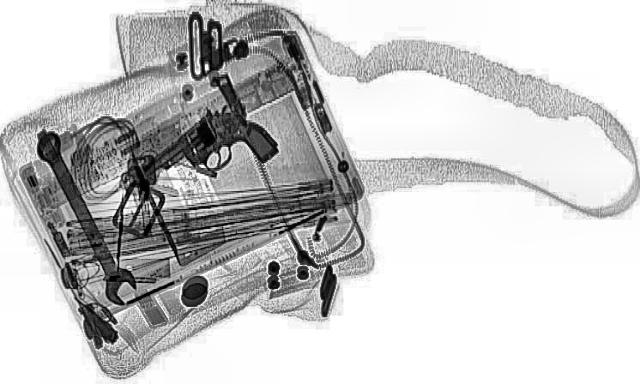Gun: (121, 106, 295, 206)
Wrench: (23, 130, 145, 306)
